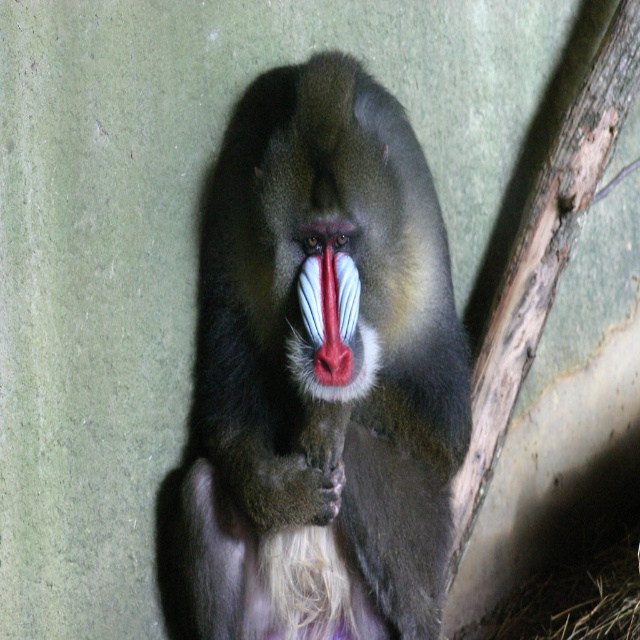Monkey: (164, 37, 493, 640)
